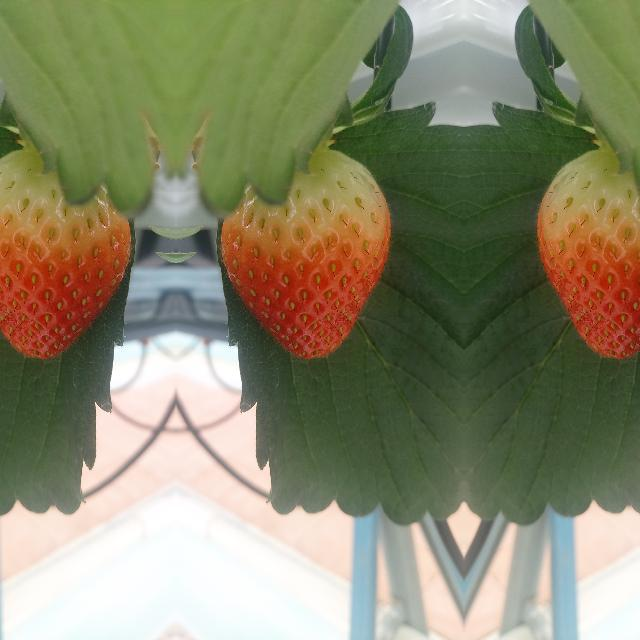Health_75: (220, 150, 390, 358), (0, 149, 129, 358), (536, 149, 640, 358)
